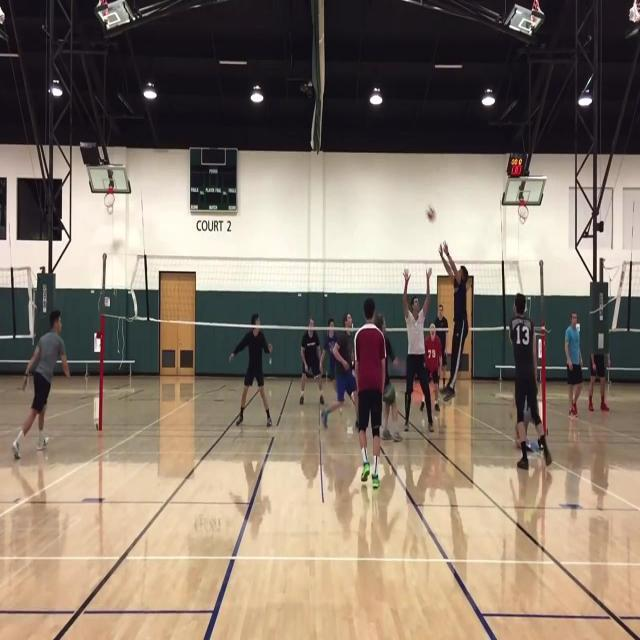volleyball: (426, 207, 436, 222)
